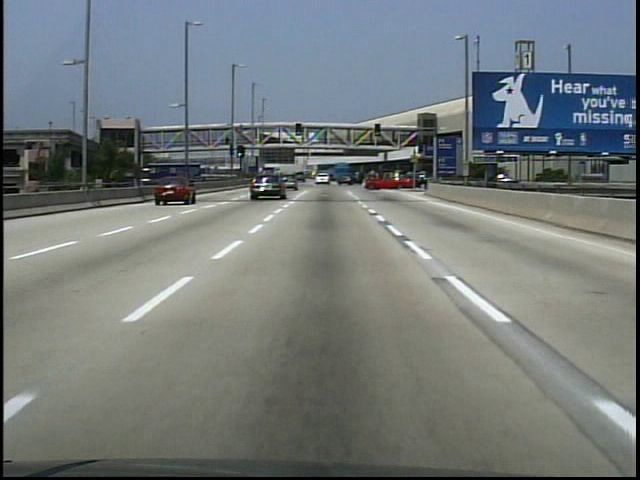person: (224, 136, 230, 148)
